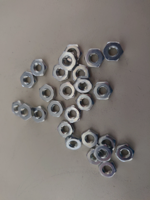nut: (104, 42, 125, 62), (93, 82, 113, 101), (115, 144, 136, 162), (98, 161, 118, 179), (85, 49, 104, 67), (82, 130, 100, 149), (75, 94, 93, 112), (39, 84, 57, 102), (31, 59, 48, 78), (75, 77, 93, 94), (59, 82, 76, 100), (53, 64, 70, 82), (48, 101, 65, 119), (64, 106, 81, 124), (95, 147, 113, 164), (59, 52, 75, 71), (72, 65, 89, 82), (65, 45, 82, 62), (58, 122, 75, 139), (85, 149, 102, 166), (21, 72, 37, 89), (32, 106, 47, 124), (18, 104, 33, 122), (100, 135, 116, 151), (65, 136, 81, 151), (12, 100, 22, 117)
